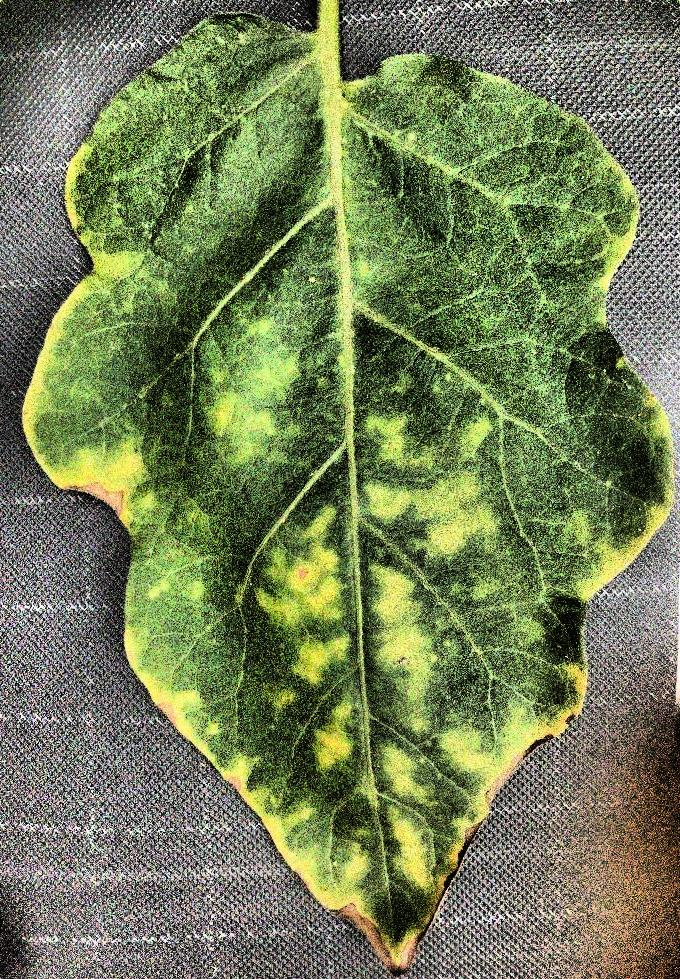Non-critical Stress: (1, 0, 680, 979)
